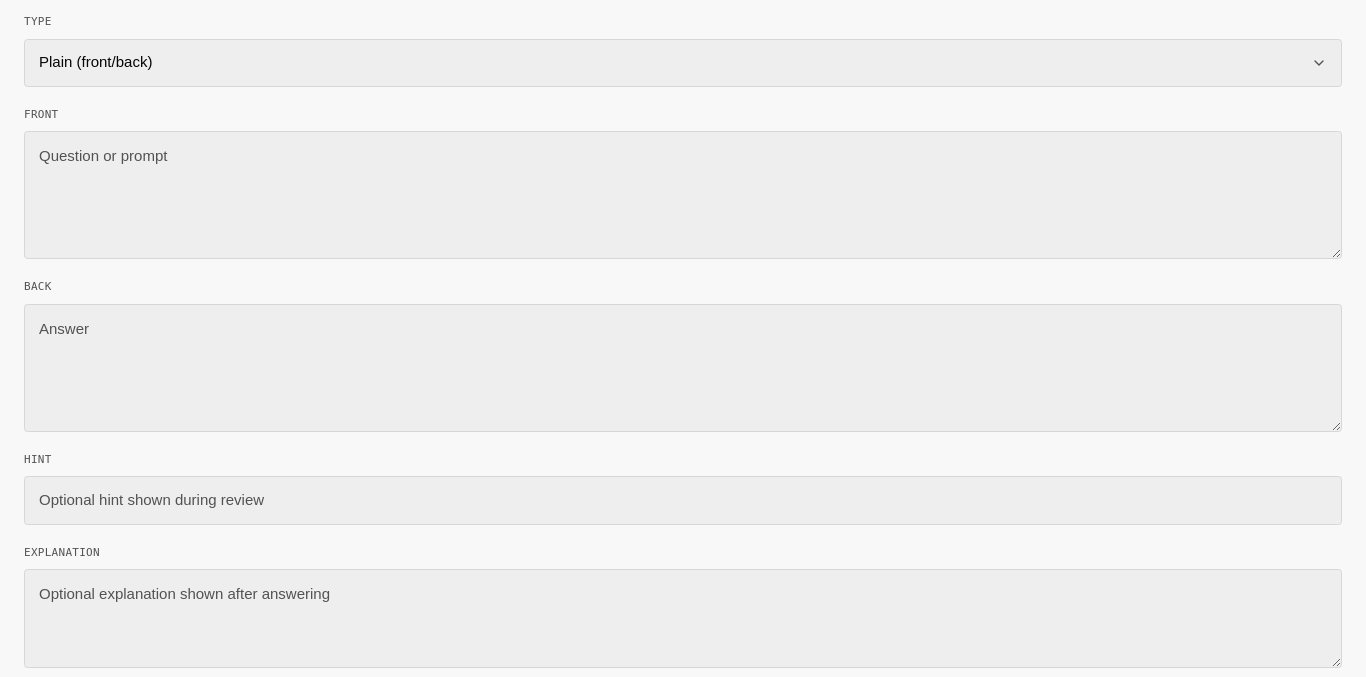
Scenario: CardForm › validation › shows 'Back is required for plain cards' when back is blank
Type "Some question" into the text box labelled "Front" at (683, 195), box x1=24 y1=131 x2=1342 y2=259
(page scrolled)
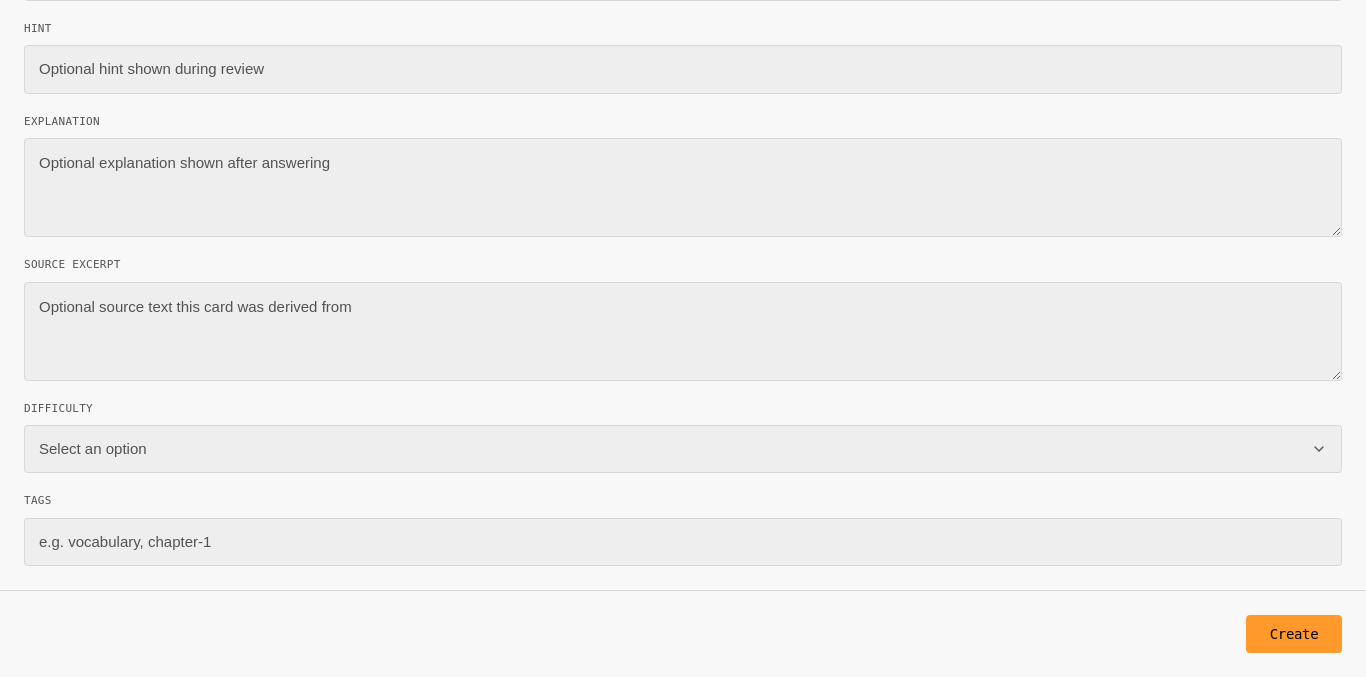
Click the button "Create" at (1294, 634), box x1=1246 y1=615 x2=1342 y2=653
(page scrolled)
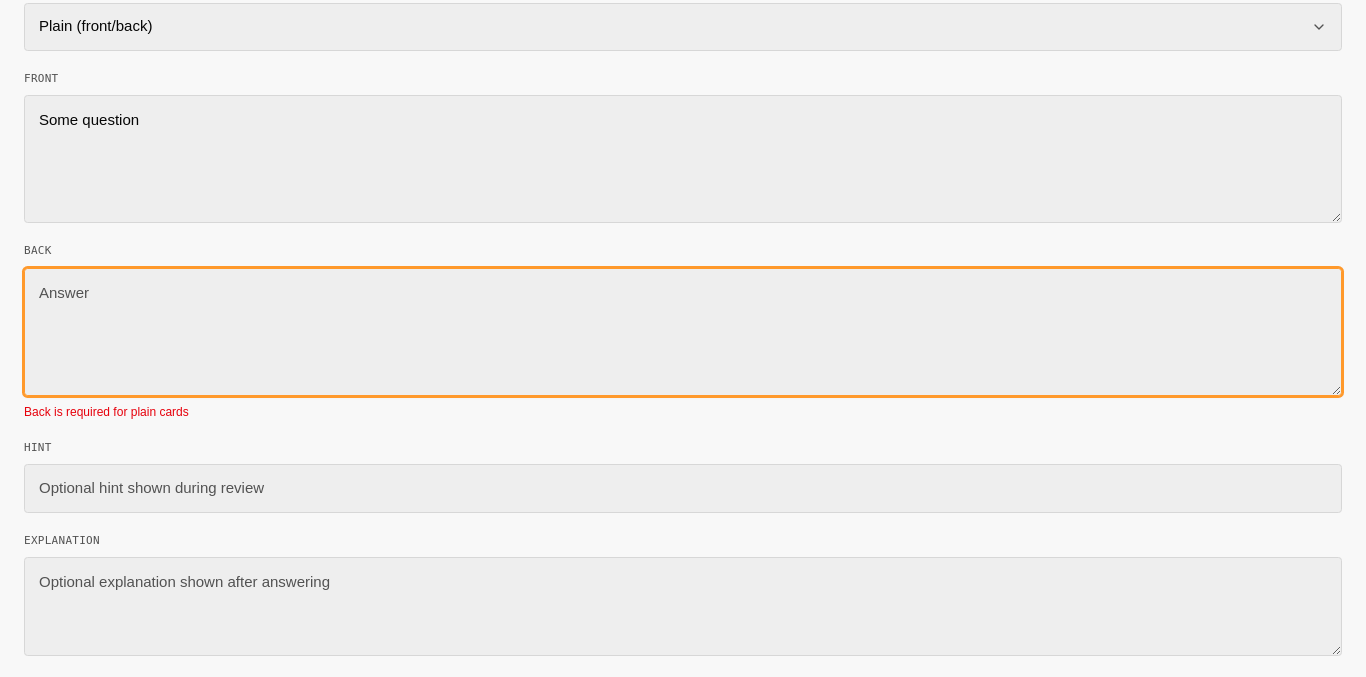
Result: the text "Back is required for plain cards" is shown at x1=24 y1=404 x2=189 y2=418
